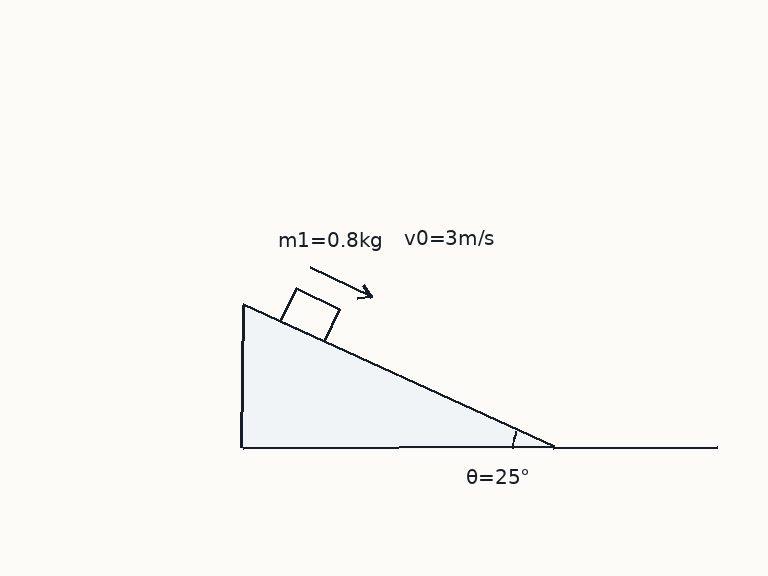block: (278, 286, 341, 343)
ramp: (241, 301, 555, 450)
